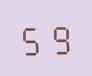five: (19, 20, 45, 56)
nine: (46, 19, 72, 55)
